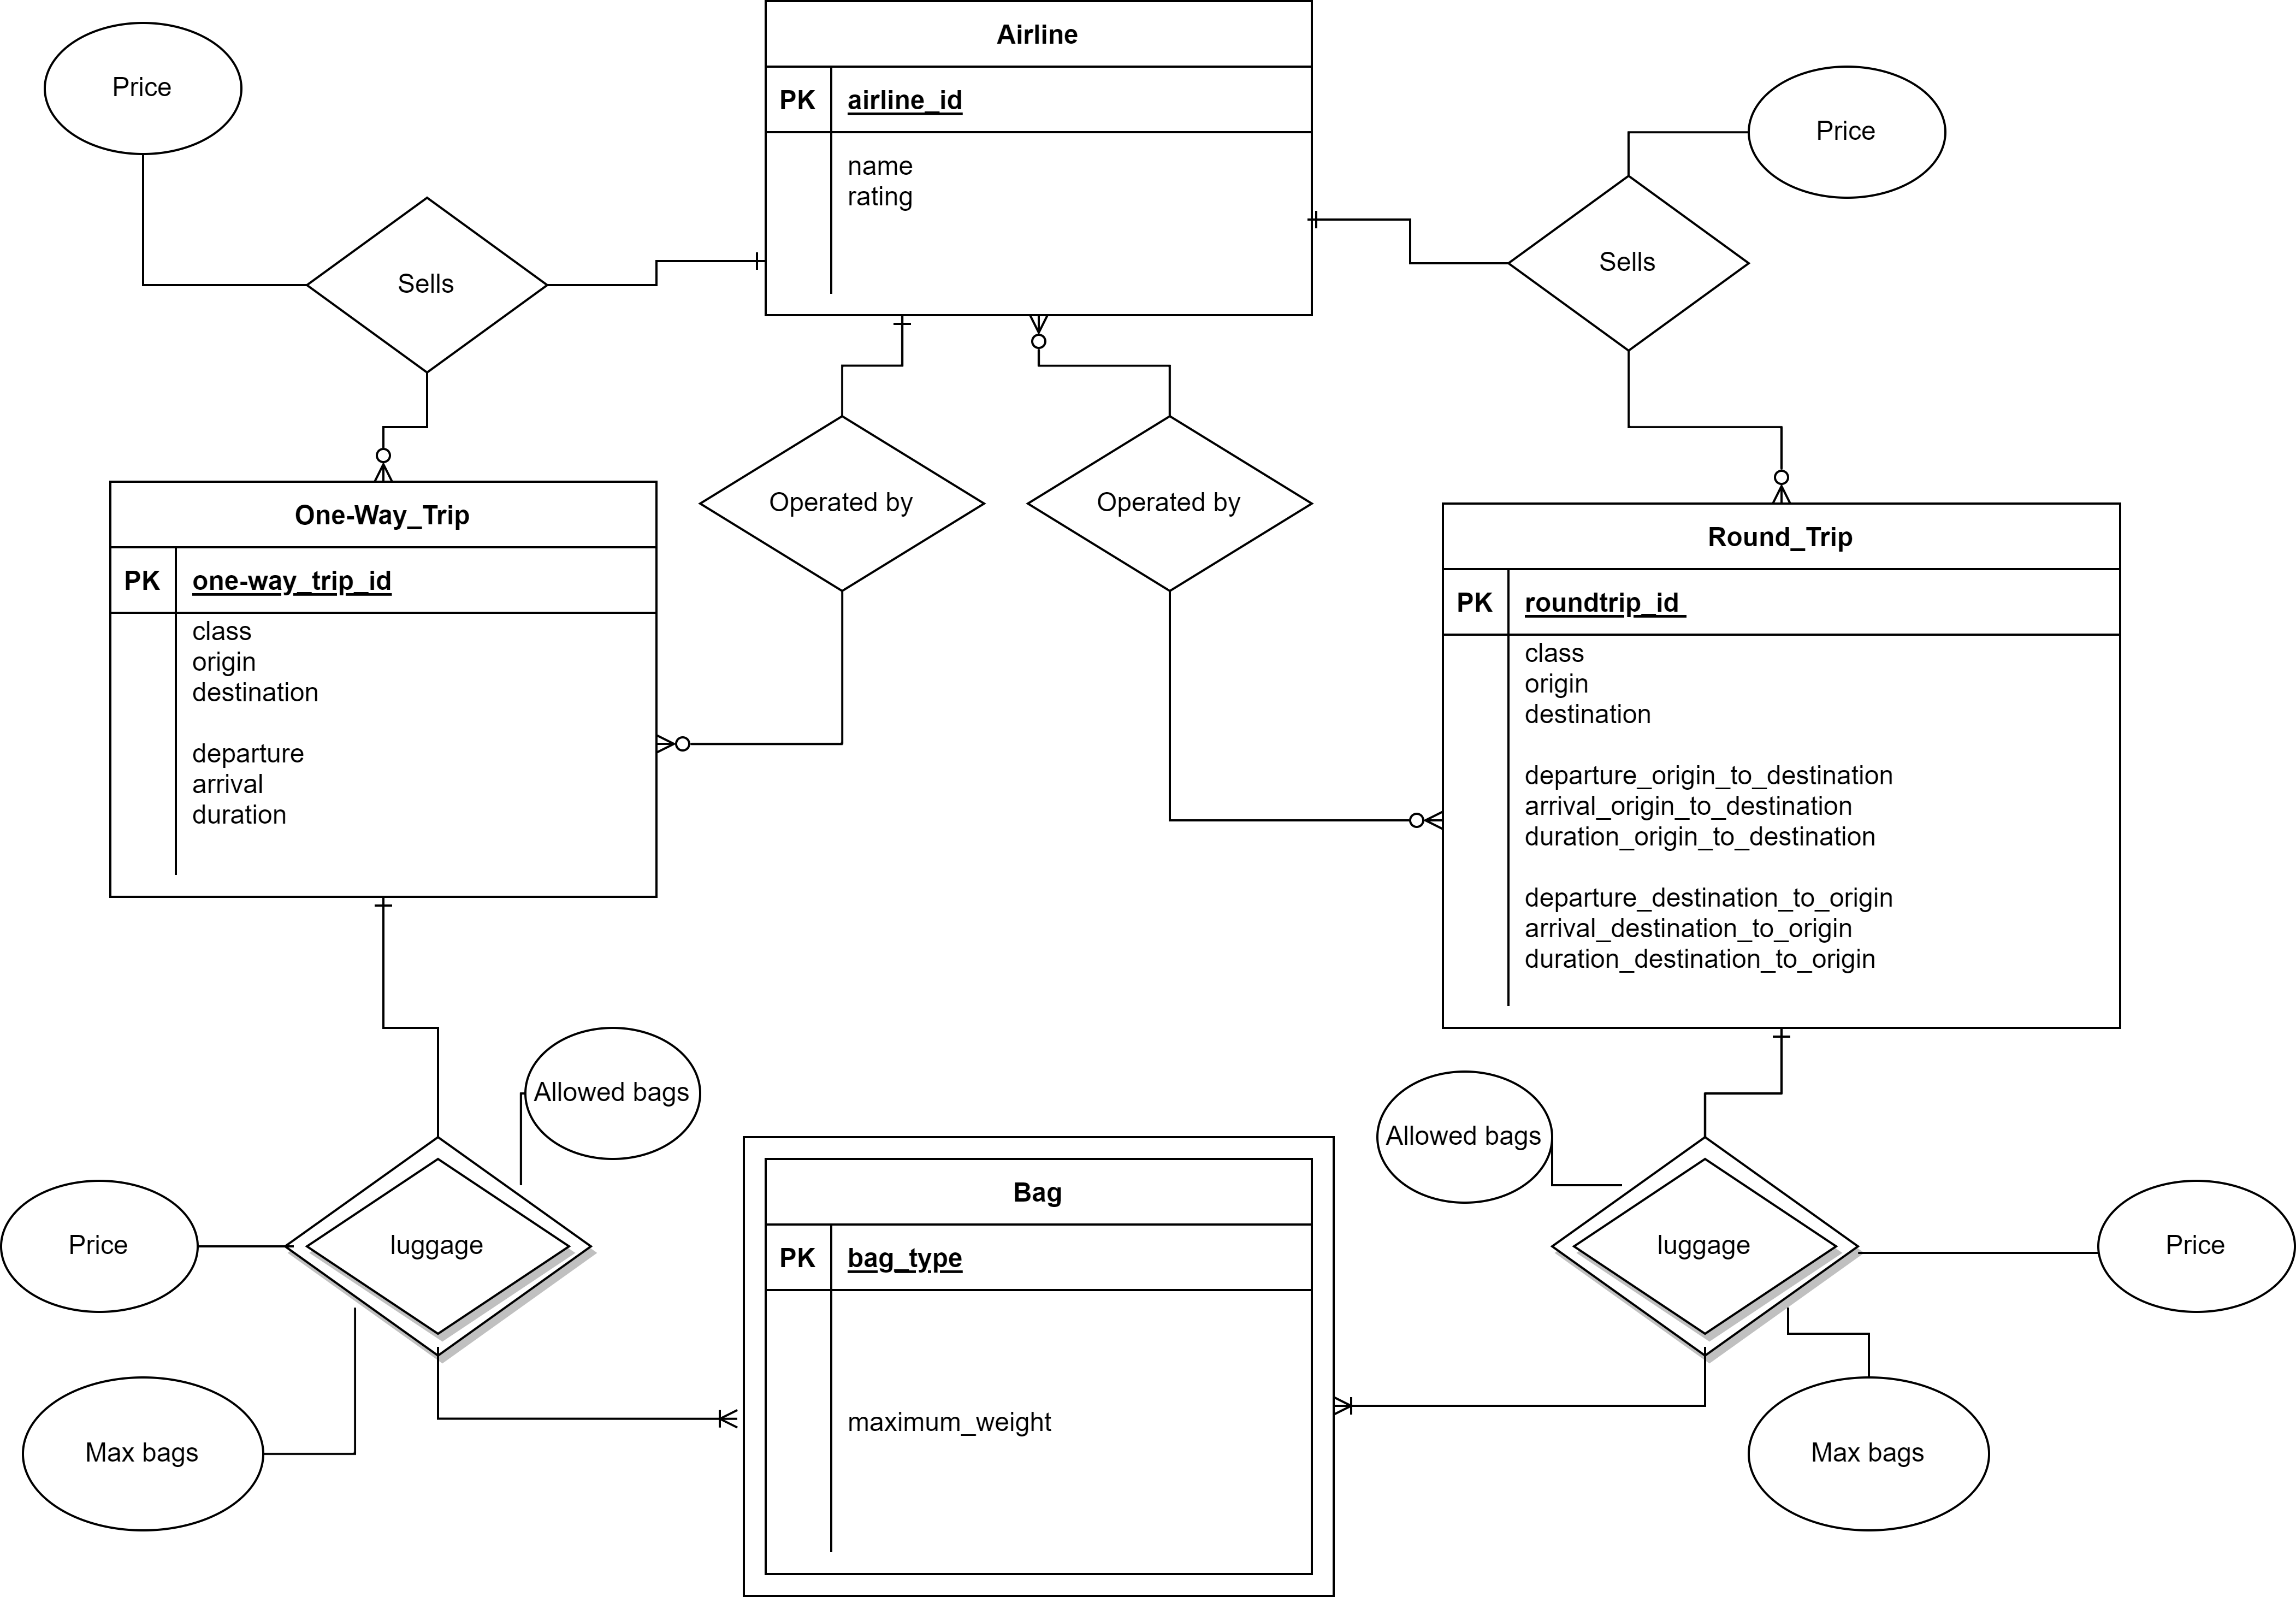entity: (1446, 504, 2120, 1025), (106, 487, 656, 899), (762, 7, 1312, 311)
ident_rel: (290, 1141, 597, 1361), (1558, 1147, 1855, 1349)
many: (1335, 1393, 1424, 1417), (1382, 808, 1446, 840), (668, 1409, 743, 1431), (656, 735, 735, 756), (1028, 316, 1050, 368), (375, 424, 394, 483)
rel: (700, 415, 986, 590), (1017, 421, 1319, 585), (1513, 175, 1753, 353), (307, 194, 541, 374)
rel_attr: (1748, 1377, 1992, 1534), (19, 1375, 263, 1527), (42, 23, 248, 155), (1752, 63, 1947, 202), (2, 1182, 202, 1316), (2095, 1183, 2296, 1318), (520, 1023, 705, 1161), (1377, 1072, 1549, 1204), (659, 246, 764, 281), (1312, 209, 1410, 234), (372, 899, 398, 967), (1769, 1026, 1790, 1093), (893, 318, 911, 368)
weak_entity: (747, 1141, 1333, 1597)
